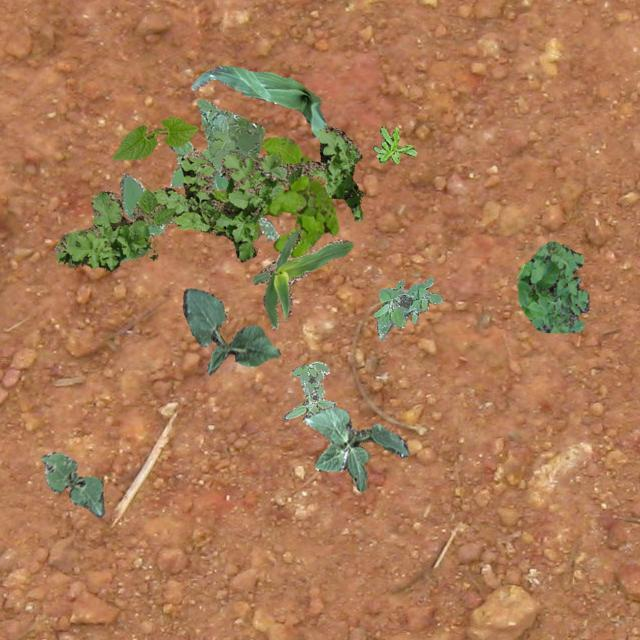crop: (252, 228, 352, 328), (190, 65, 326, 136), (302, 406, 408, 492), (182, 288, 280, 374), (40, 452, 104, 516), (112, 115, 196, 158)
weed: (54, 123, 362, 270), (119, 140, 278, 262), (212, 136, 338, 256), (516, 240, 588, 332), (196, 98, 264, 166), (372, 276, 442, 340), (282, 361, 336, 418), (372, 126, 416, 162)
